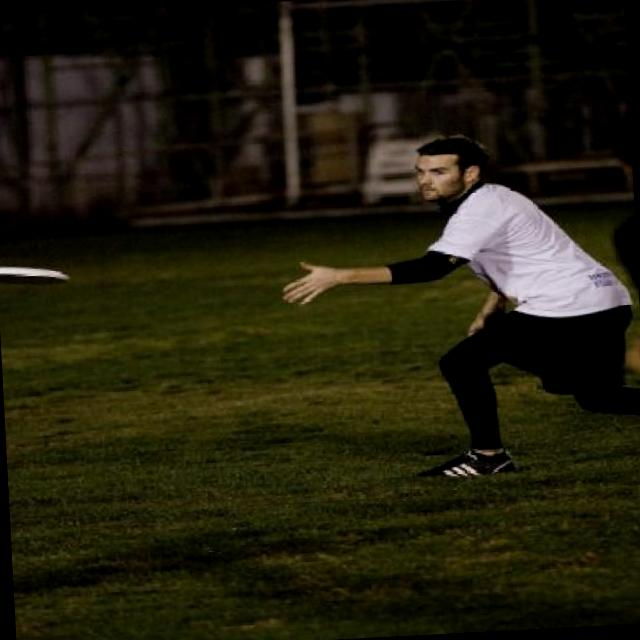Person: (261, 124, 640, 497)
